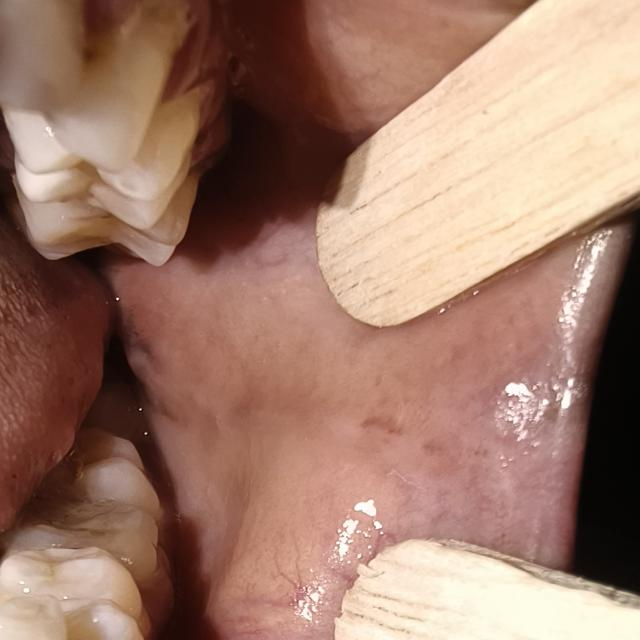processing_area: (123, 212, 601, 636)
